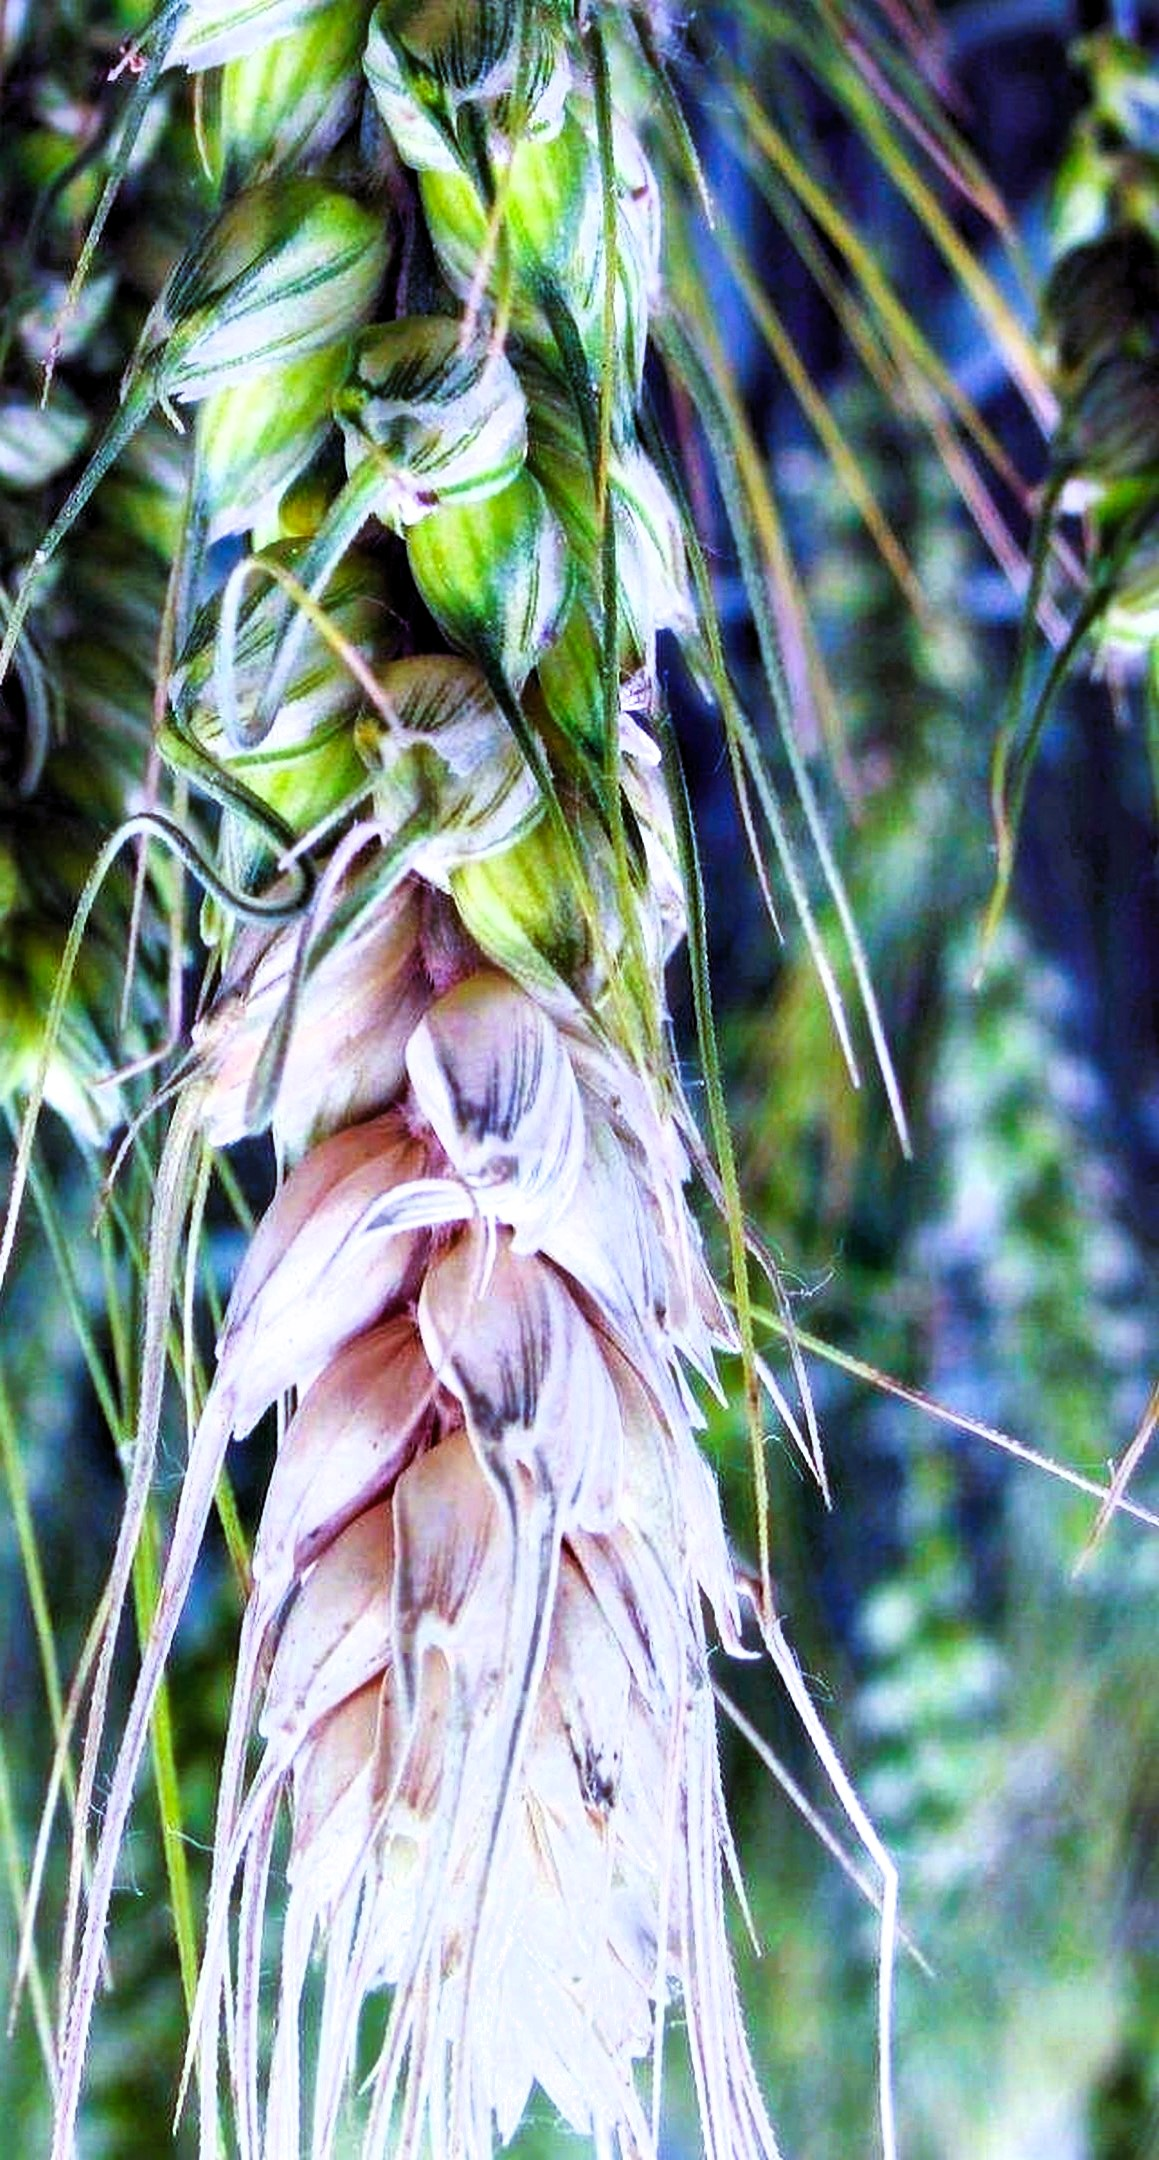Wheat scab: (129, 246, 807, 1991)
